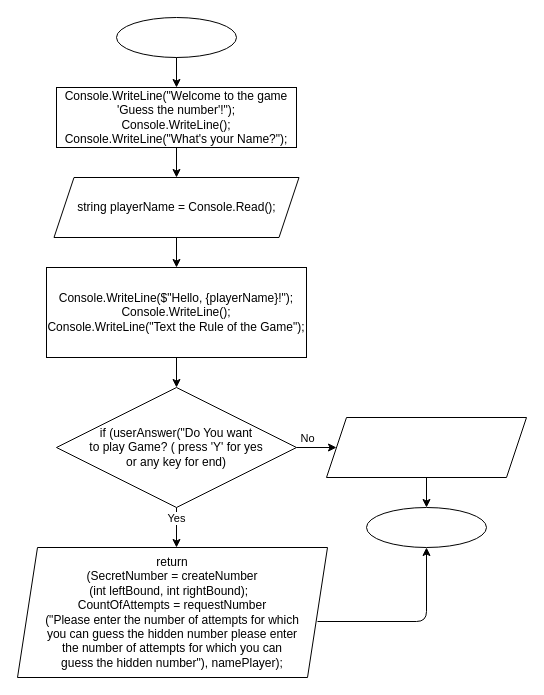
The diagram is 544 pixels wide and 695 high, and some of its shapes have lost their labels. The box of each missing label's shape, as (x1, y1, x2, y2) in pixels:
END: (366, 506, 486, 548)
return (s ecretNumber = -99, countOfAttempts = -99, namePlayer);: (326, 416, 526, 478)
START: (116, 16, 236, 58)
